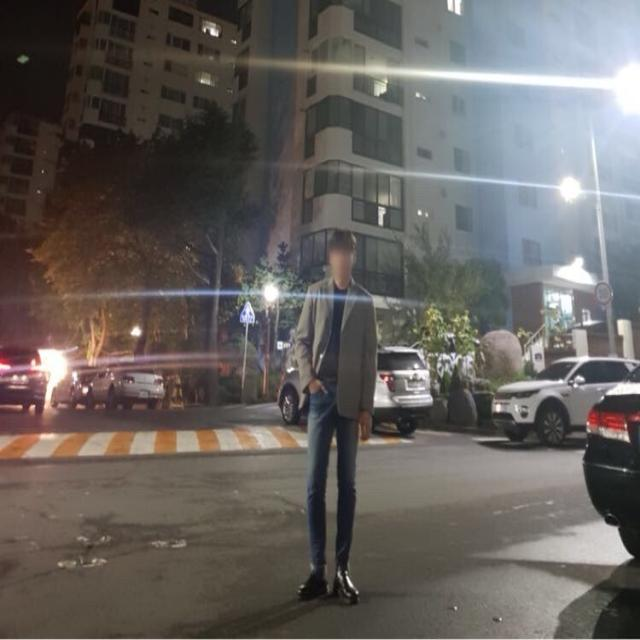blazer: (292, 273, 378, 422)
denimpants: (304, 370, 361, 579)
